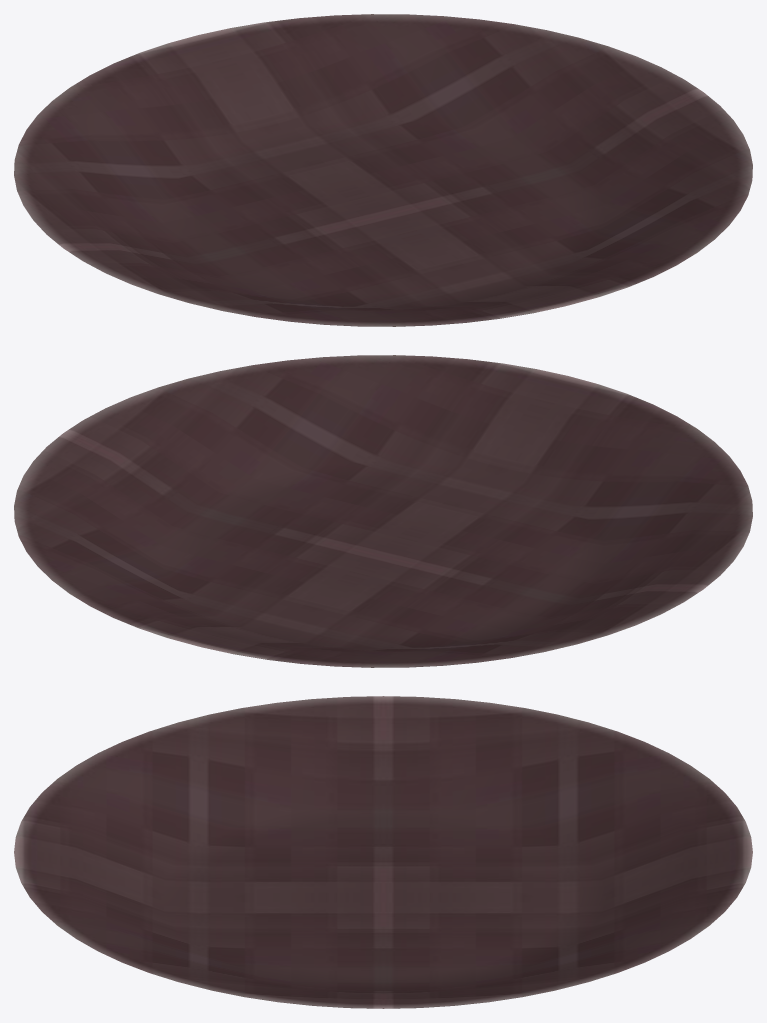
The model's file is FLO-06.glb.
The picture shows the model from 3 angles, top to bottom: view 1: azimuth 30°, elevation 25°; view 2: azimuth 150°, elevation 25°; view 3: azimuth 270°, elevation 25°; orthographic projection.
Bounding box in the file's own units: 0.27 × 0.022 × 0.27.
Materials: 2 (2 with a texture image).
